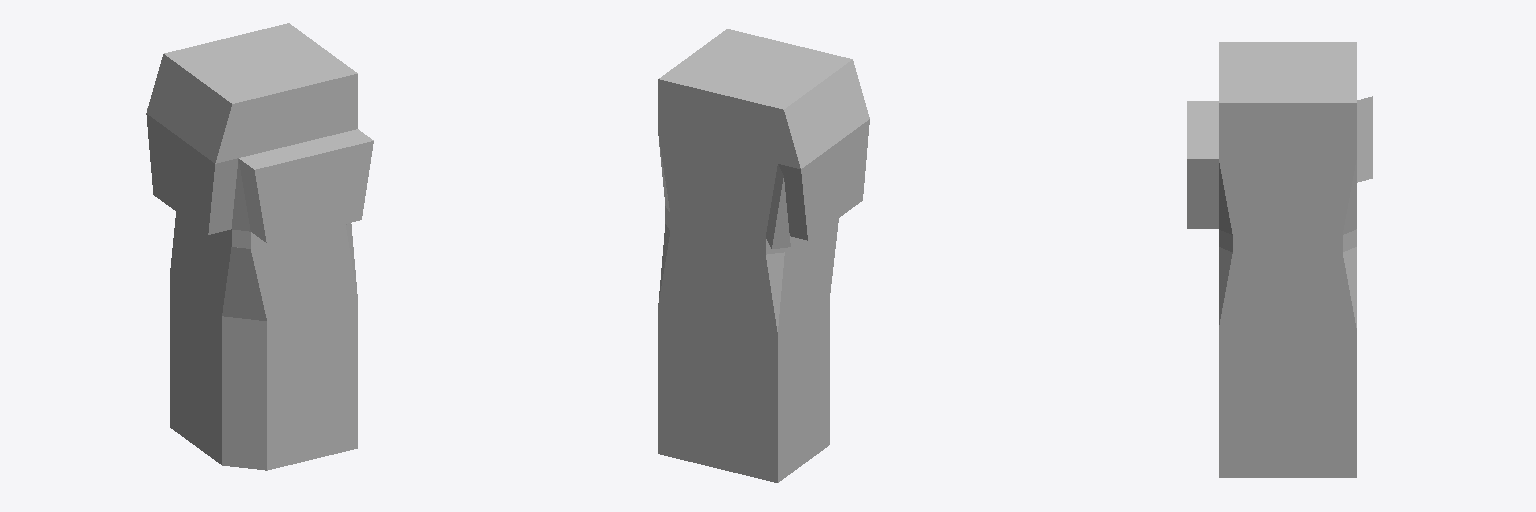
File: building4.obj
3 renders of one model, left to right at view 1: azimuth 30°, elevation 25°; view 2: azimuth 150°, elevation 25°; view 3: azimuth 270°, elevation 25°, orthographic.
Parts seen in each view (by area): view 1: Cube; view 2: Cube; view 3: Cube.
Boxes of the visible parts, x1,y1,x2,y2 form: Cube: [146, 23, 373, 470]; Cube: [658, 29, 869, 482]; Cube: [1187, 42, 1372, 477].
Size of the model in its own units: 2.39 by 6 by 2.71.